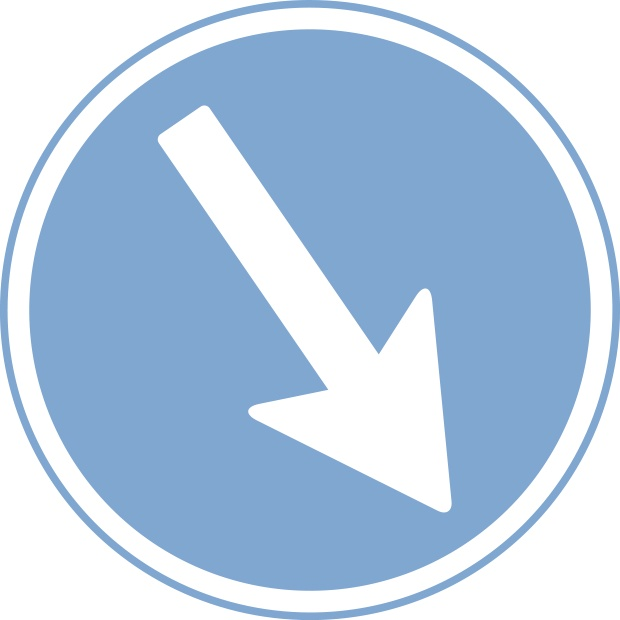Direction_sign: (2, 1, 619, 618)
